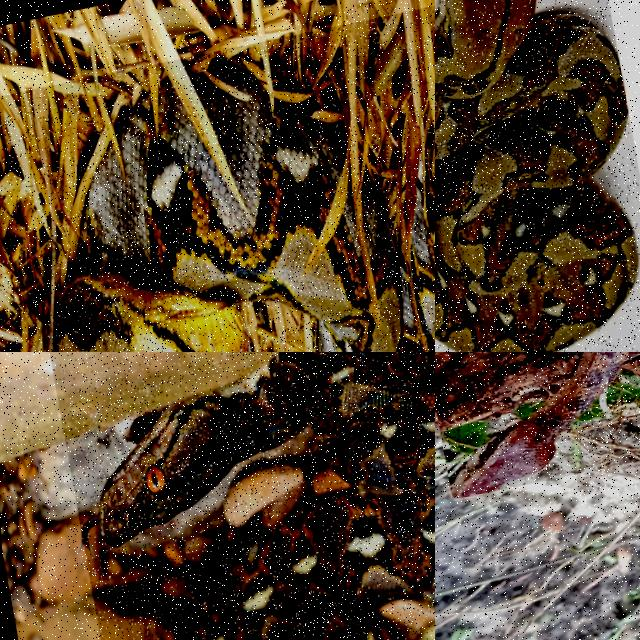Calloselasma rhodostoma: (451, 352, 625, 497)
Malayopython reticulatus: (54, 69, 434, 351), (82, 352, 434, 639), (435, 0, 633, 351)
snake: (54, 69, 434, 351), (82, 352, 434, 639), (435, 0, 633, 351), (451, 352, 625, 497)
